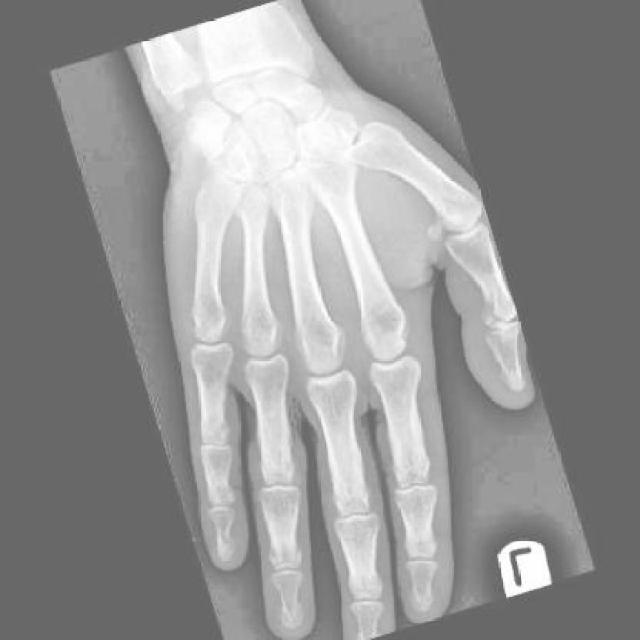Fracture: (180, 114, 219, 154)
